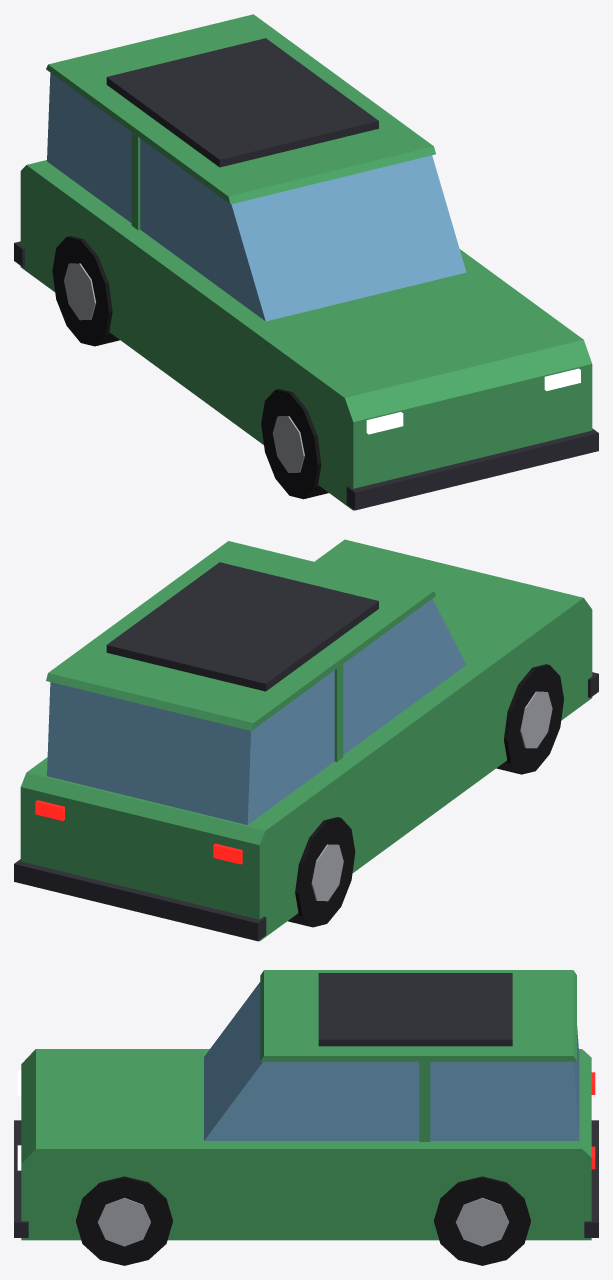
File: car_suv.glb
3 renders of one model, top to bottom at view 1: azimuth 30°, elevation 25°; view 2: azimuth 150°, elevation 25°; view 3: azimuth 270°, elevation 25°, orthographic. The views are drawn at different scales.
Parts seen in each view (by area): view 1: car_suv; view 2: car_suv; view 3: car_suv.
Boxes of the visible parts, x1,y1,x2,y2 form: car_suv: [14, 14, 598, 510]; car_suv: [14, 539, 598, 941]; car_suv: [14, 970, 598, 1265].
Size of the model in its own units: 2.03 by 1.89 by 4.82.
